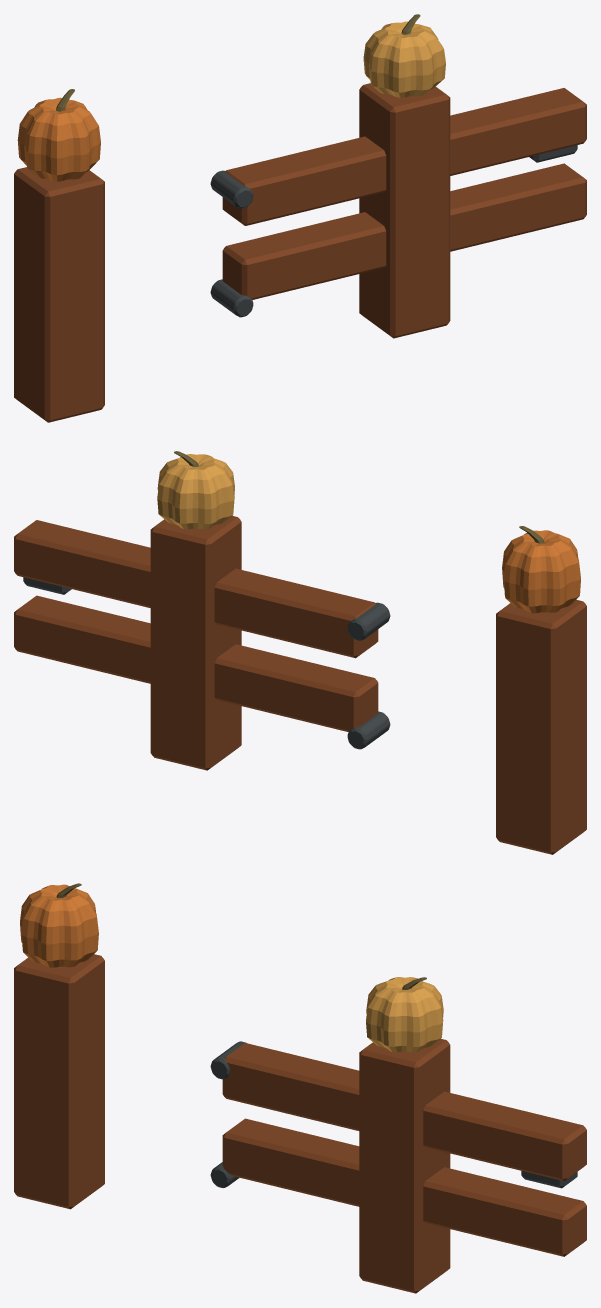
Rendered from AutumnFenceGate.glb.
3 views of the same model, one above another, from view 1: azimuth 30°, elevation 25°; view 2: azimuth 150°, elevation 25°; view 3: azimuth 330°, elevation 25° (orthographic).
Parts seen in each view (by area): view 1: AutumnFenceGate_Posts, AutumnFenceGate_Leaf, AutumnFenceGate_Decor; view 2: AutumnFenceGate_Posts, AutumnFenceGate_Leaf, AutumnFenceGate_Decor; view 3: AutumnFenceGate_Posts, AutumnFenceGate_Leaf, AutumnFenceGate_Decor.
Boxes of the visible parts, x1,y1,x2,y2 form: AutumnFenceGate_Posts: (14,83,450,422); AutumnFenceGate_Leaf: (210,88,586,317); AutumnFenceGate_Decor: (17,14,445,181); AutumnFenceGate_Posts: (150,515,586,854); AutumnFenceGate_Leaf: (14,520,390,749); AutumnFenceGate_Decor: (157,451,580,613); AutumnFenceGate_Posts: (14,954,450,1293); AutumnFenceGate_Leaf: (210,1041,586,1256); AutumnFenceGate_Decor: (20,883,443,1052).
Size of the model in its own units: 1.38 by 0.7341 by 0.1788.
